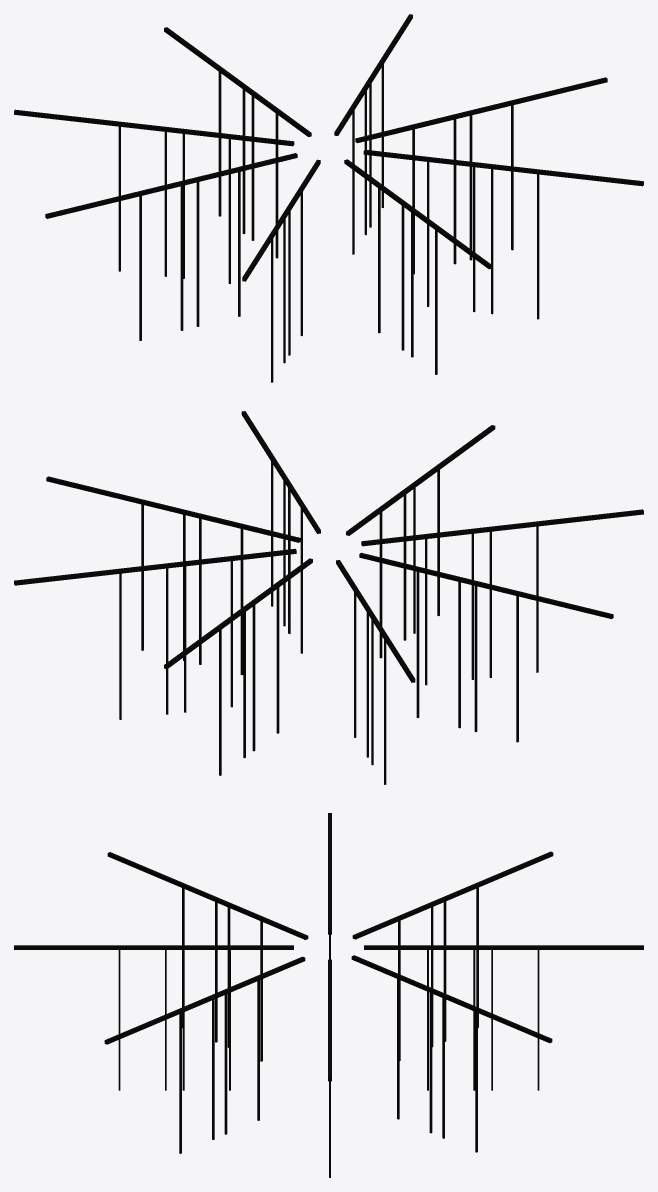
The model's file is ULM_Hanging_Pictures.fbx.
3 renders of one model, top to bottom at view 1: azimuth 30°, elevation 25°; view 2: azimuth 150°, elevation 25°; view 3: azimuth 270°, elevation 25°, orthographic. The views are drawn at different scales.
Parts seen in each view (by area): view 1: RFL_Hanging_Pictures; view 2: RFL_Hanging_Pictures; view 3: RFL_Hanging_Pictures.
Boxes of the visible parts, x1,y1,x2,y2 form: RFL_Hanging_Pictures: (14,14,643,382); RFL_Hanging_Pictures: (14,411,643,784); RFL_Hanging_Pictures: (14,813,643,1177).
Bounding box in the file's own units: 3358 × 854 × 3374.
